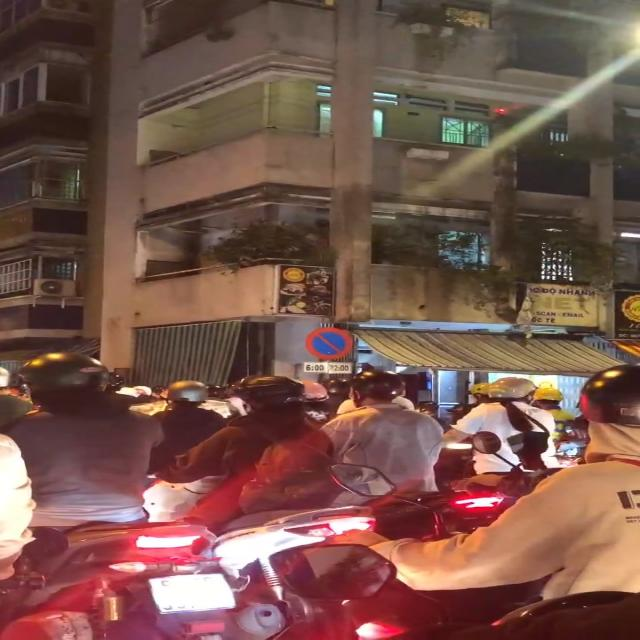Bien bao cam do xe: (304, 325, 355, 360)
